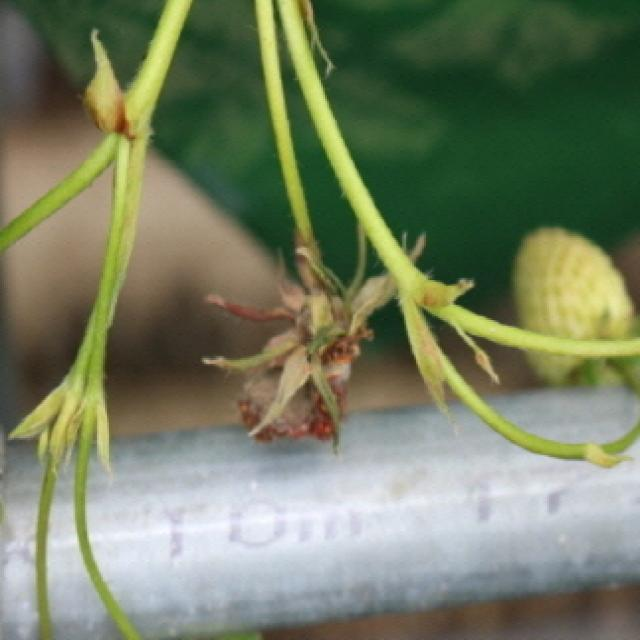Gray Mold: (202, 231, 390, 454)
